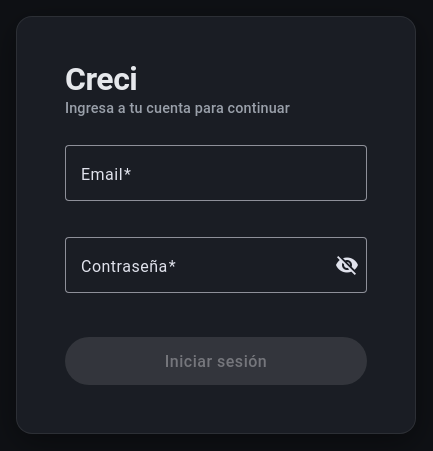
Scenario: LoginComponent › Validación del formulario › debe mostrar error cuando el email tiene formato inválido
Type "no-es-un-email" into the field named "Dirección de email" at {"x": 216, "y": 173}, box left=81, top=161, right=351, bottom=185
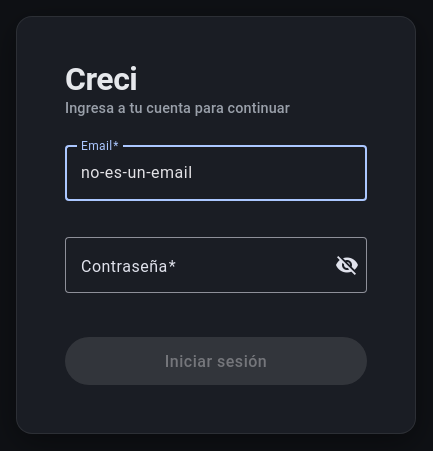
Press Tab
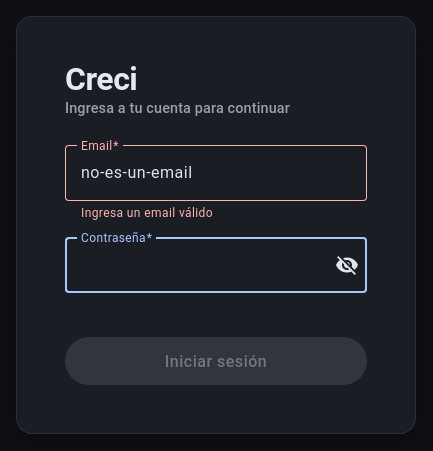
Check: the text "Ingresa un email válido" is shown, box left=81, top=206, right=213, bottom=220
